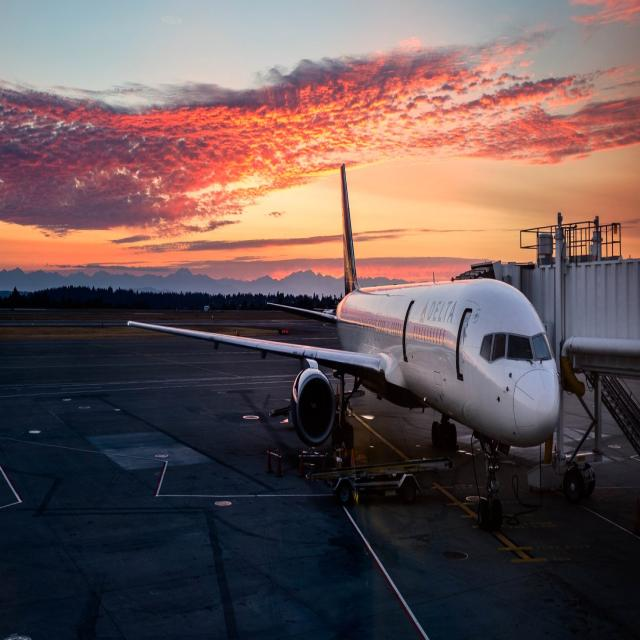plain: (116, 152, 583, 467)
